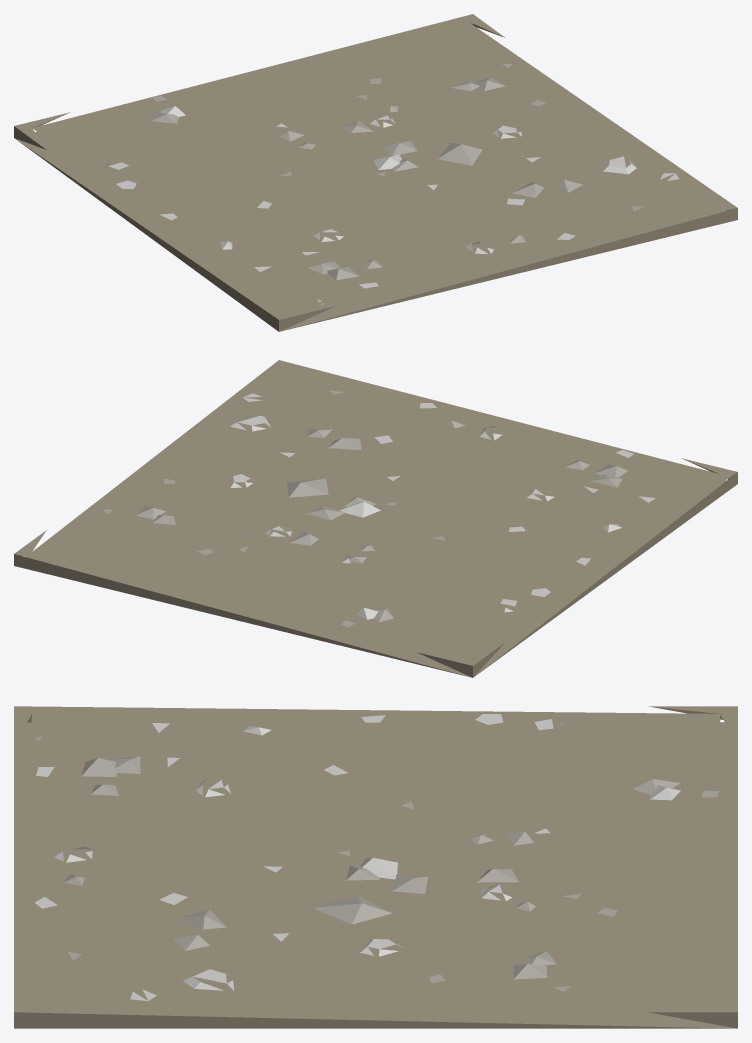
3 views of the same model, one above another, from view 1: azimuth 30°, elevation 25°; view 2: azimuth 150°, elevation 25°; view 3: azimuth 270°, elevation 25° (orthographic). The views are drawn at different scales.
Visible parts, largest first — view 1: patch_0; view 2: patch_0; view 3: patch_0.
Boxes of the visible parts, x1,y1,x2,y2 form: patch_0: (14, 14, 737, 331); patch_0: (14, 360, 737, 677); patch_0: (14, 706, 737, 1028).
Size of the model in its own units: 2.6 by 0.1051 by 2.6.
